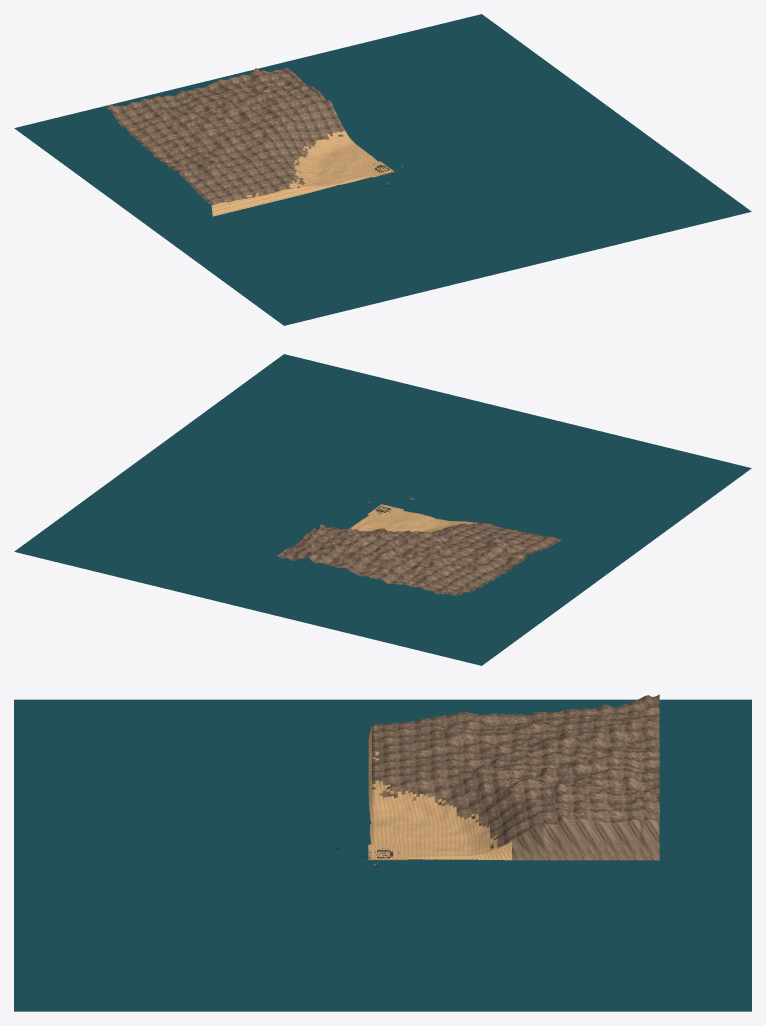
The model's file is station_sumhuram.glb.
The picture shows the model from 3 angles, top to bottom: view 1: azimuth 30°, elevation 25°; view 2: azimuth 150°, elevation 25°; view 3: azimuth 270°, elevation 25°; orthographic projection. The views are drawn at different scales.
Parts seen in each view (by area): view 1: Water_Khor, Terrain; view 2: Water_Khor, Terrain; view 3: Water_Khor, Terrain, sumhuram_Static.
Part boxes in pixels (<box>): Water_Khor: <box>14,14,751,325</box>; Terrain: <box>106,67,378,216</box>; Water_Khor: <box>14,354,751,665</box>; Terrain: <box>277,510,561,595</box>; Water_Khor: <box>14,699,751,1011</box>; Terrain: <box>368,694,659,860</box>; sumhuram_Static: <box>335,844,407,866</box>.
Bounding box in the file's own units: 1200 × 87.04 × 1200.
18 materials, 8 textured.
